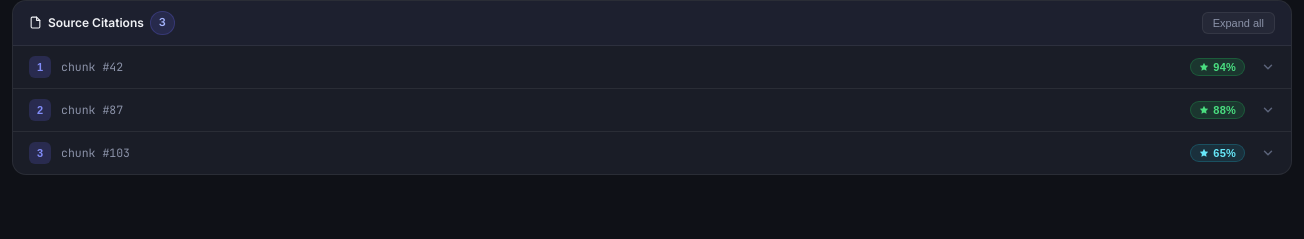
Test: CitationList Component › collapses an expanded card when clicked again
Click the button "1 chunk #42 94%". click: click(85, 67)
box: top-left (13, 46), bottom-right (1291, 88)
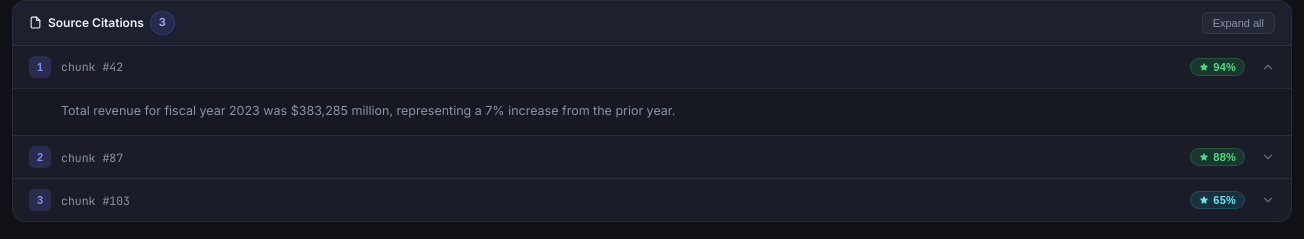
expect the text "Total revenue for fiscal year 2023" is shown: met, box top-left (61, 103), bottom-right (675, 118)
Click the button "1 chunk #42 94%". click: click(85, 67)
box: top-left (13, 46), bottom-right (1291, 88)
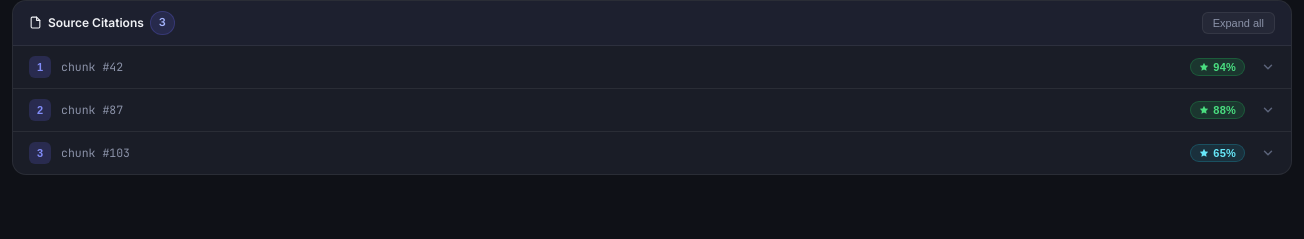
expect the text "Total revenue for fiscal year 2023" is gone: met
